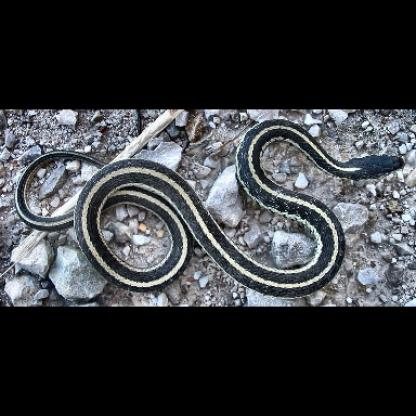Snake: (15, 116, 404, 302)
